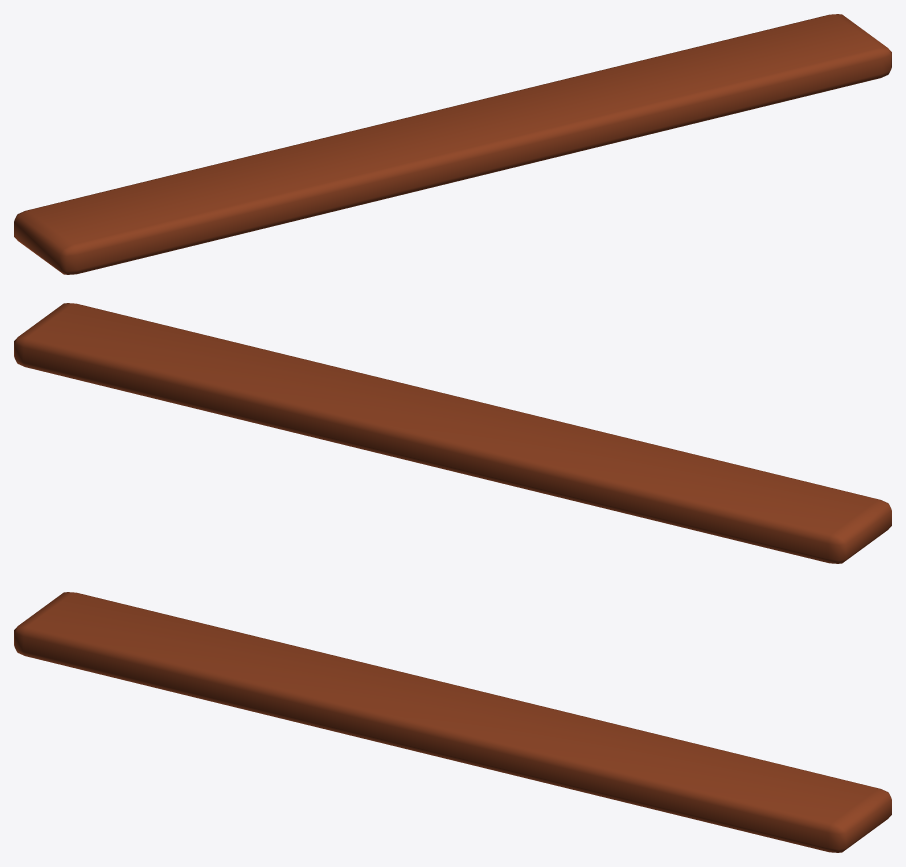
The model's file is planche 3.fbx.
3 views of the same model, one above another, from view 1: azimuth 30°, elevation 25°; view 2: azimuth 150°, elevation 25°; view 3: azimuth 330°, elevation 25° (orthographic).
Parts seen in each view (by area): view 1: Planche 3; view 2: Planche 3; view 3: Planche 3.
Part boxes in pixels (x1,y1,x2,y2): Planche 3: (14,14,891,274); Planche 3: (14,303,891,563); Planche 3: (14,592,891,852).
Size of the model in its own units: 216 by 7.45 by 24.28.
